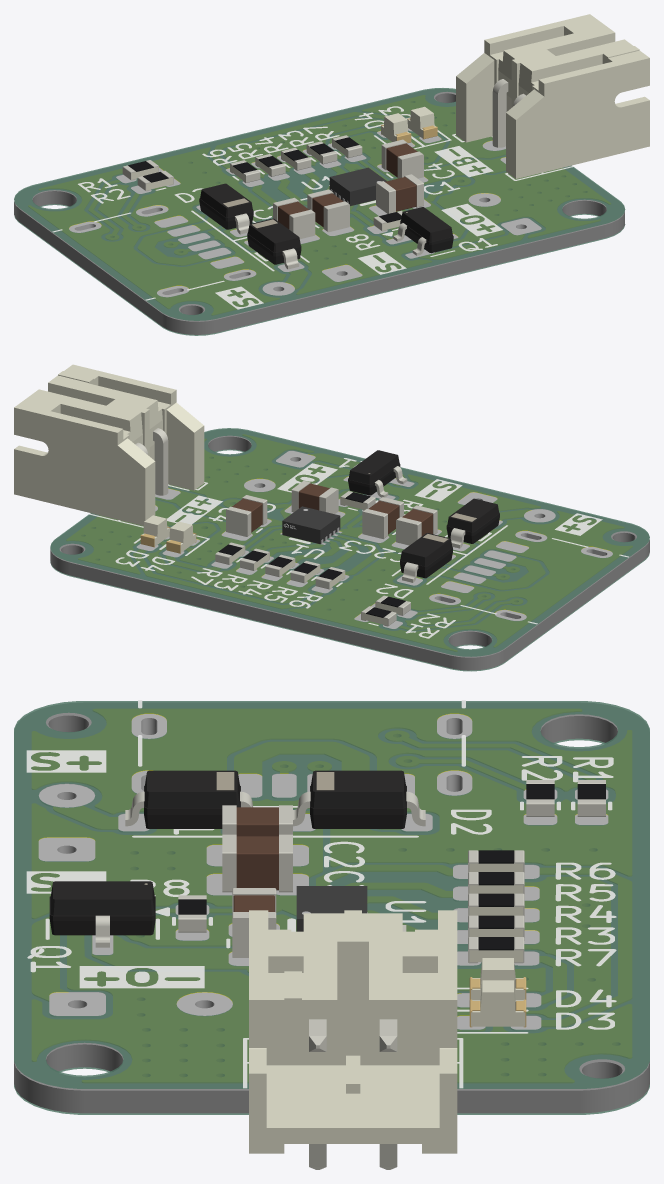
Rendered from SolarLader.glb.
3 renders of one model, top to bottom at view 1: azimuth 30°, elevation 25°; view 2: azimuth 150°, elevation 25°; view 3: azimuth 270°, elevation 25°, orthographic. The views are drawn at different scales.
Visible parts, largest first — view 1: =>[0:1:1:13], =>[0:1:1:9], BT1, =>[0:1:1:14], =>[0:1:1:10], =>[0:1:1:12], D1, D2, Q1, C1, U1, C3 (+11 smaller); view 2: =>[0:1:1:13], =>[0:1:1:9], BT1, =>[0:1:1:14], =>[0:1:1:10], =>[0:1:1:12], D2, D1, Q1, U1, C4, C3 (+12 smaller); view 3: =>[0:1:1:13], =>[0:1:1:9], BT1, =>[0:1:1:14], =>[0:1:1:10], =>[0:1:1:12], D2, Q1, D1, C3, D3, C2 (+12 smaller).
Boxes of the visible parts, x1,y1,x2,y2 form: =>[0:1:1:13]: (14, 88, 625, 335); =>[0:1:1:9]: (28, 95, 610, 314); BT1: (456, 14, 649, 178); =>[0:1:1:14]: (14, 89, 624, 334); =>[0:1:1:10]: (69, 128, 541, 297); =>[0:1:1:12]: (52, 106, 573, 309); D1: (247, 218, 301, 269); D2: (199, 183, 253, 234); Q1: (393, 207, 453, 255); C1: (376, 174, 423, 213); U1: (329, 167, 386, 205); C3: (307, 189, 349, 232); =>[0:1:1:13]: (50, 428, 649, 671); =>[0:1:1:9]: (66, 435, 632, 651); BT1: (14, 364, 204, 525); =>[0:1:1:14]: (50, 429, 649, 670); =>[0:1:1:10]: (136, 451, 612, 629); =>[0:1:1:12]: (89, 458, 628, 638); D2: (400, 533, 452, 582); D1: (446, 498, 499, 548); Q1: (348, 450, 407, 497); U1: (282, 506, 340, 543); C4: (226, 495, 267, 536); C3: (362, 497, 403, 539); =>[0:1:1:13]: (14, 701, 649, 1114); =>[0:1:1:9]: (32, 709, 631, 1082); BT1: (249, 910, 457, 1169); =>[0:1:1:14]: (14, 703, 649, 1113); =>[0:1:1:10]: (38, 714, 608, 1030); =>[0:1:1:12]: (26, 700, 616, 1088); D2: (293, 770, 425, 828); Q1: (49, 881, 155, 947); D1: (125, 770, 252, 828); C3: (222, 834, 292, 892); D3: (469, 980, 526, 1027); C2: (222, 805, 292, 836).
Bounding box in the file's own units: 0.0304 × 0.00825 × 0.018.
